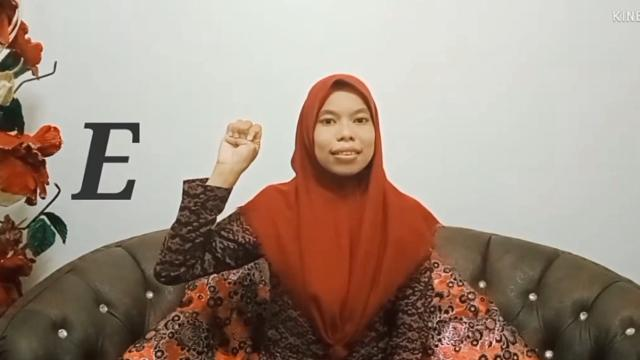E: (218, 118, 262, 176)
